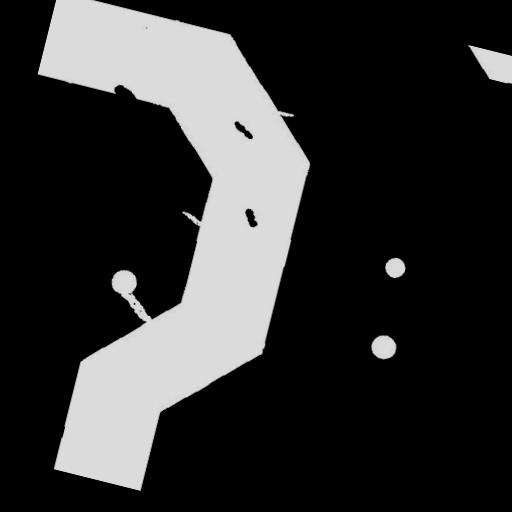copper: (222, 112, 264, 148), (233, 198, 269, 236)
mousebite: (170, 202, 215, 236), (266, 100, 304, 127)
open: (106, 279, 166, 332)
pin-hole: (374, 246, 416, 288)
spur: (102, 75, 147, 114)
